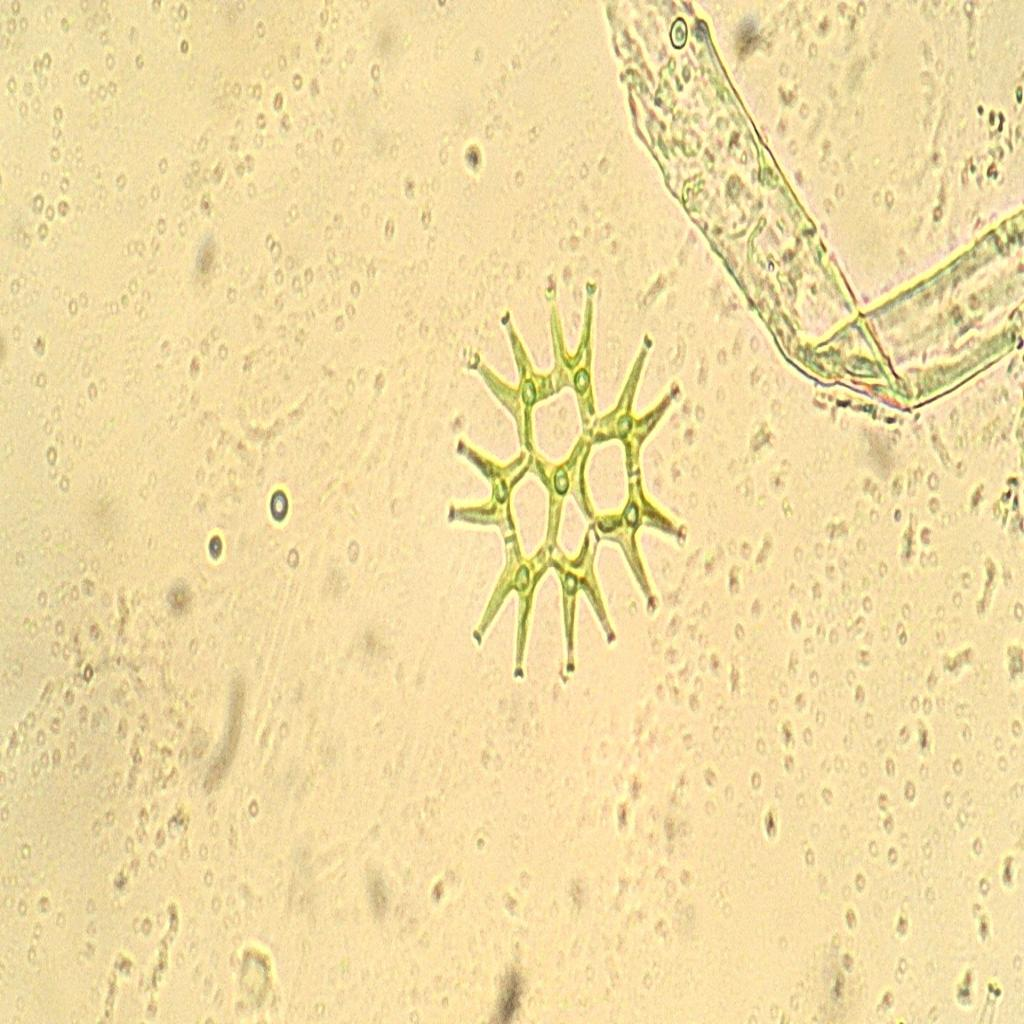Pediastrum_CTH: (417, 257, 709, 710)
